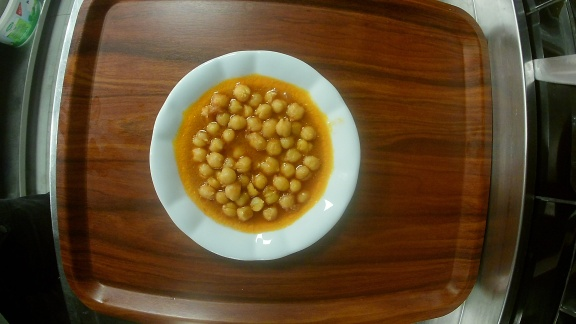sulunohut: (149, 48, 362, 261)
